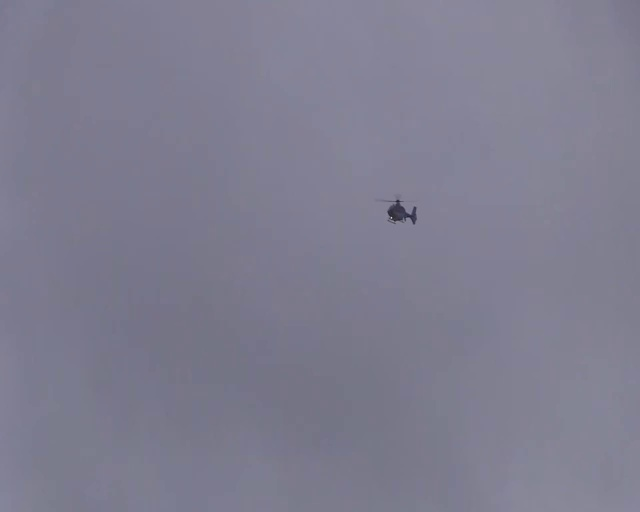HELICOPTER: (374, 194, 419, 225)
